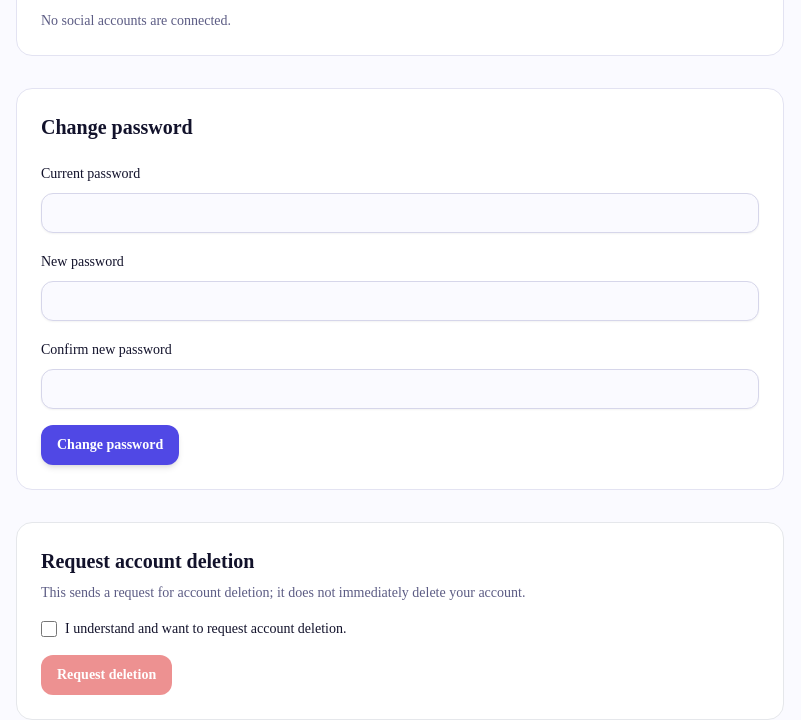
Test case: profile settings › requires explicit consent before requesting account deletion
(page scrolled)
Expected: the text "No social accounts are connected." is shown, [41, 13, 231, 28]
Expected: the button "Request deletion" is disabled, [41, 655, 172, 695]
Click the checkbox labelled "I understand and want to request account deletion." at (49, 629), box [41, 621, 57, 637]
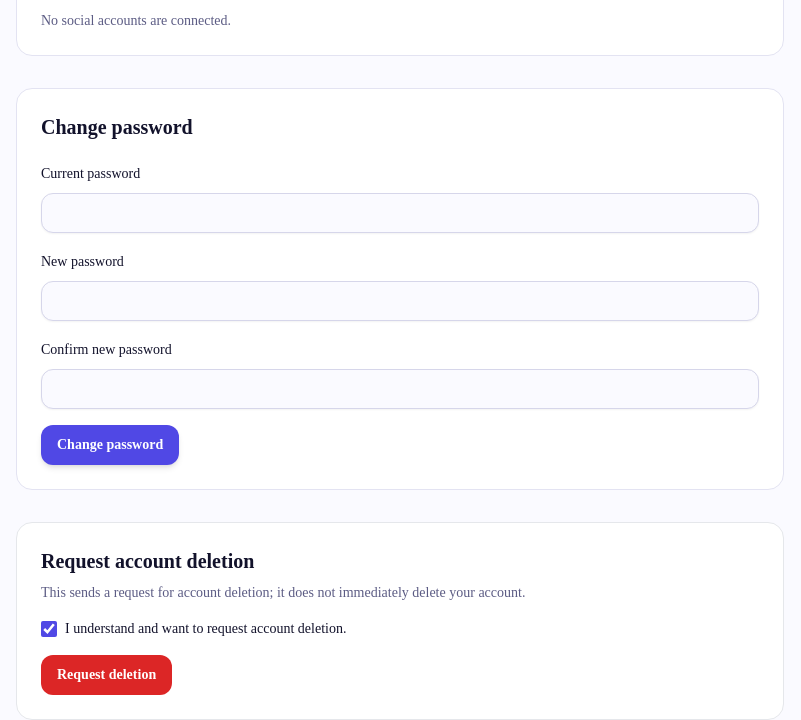
Click the button "Request deletion" at (107, 675), box [41, 655, 172, 695]
(page scrolled)
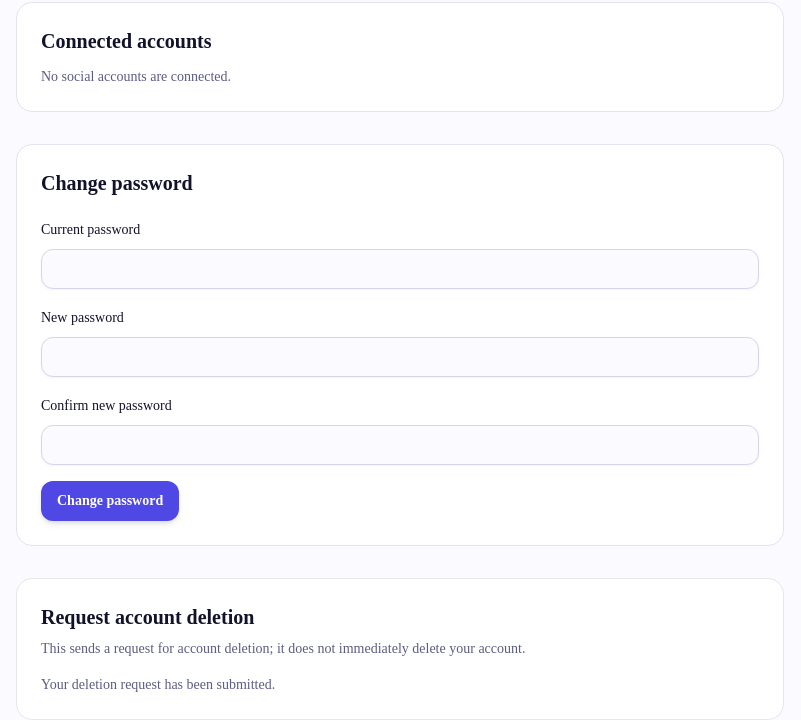
Now the text "Your deletion request has been submitted." is shown, box [41, 677, 275, 692]
Now the button "Request deletion" is gone
